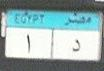1: (26, 33, 31, 53)
daal: (71, 38, 82, 53)
